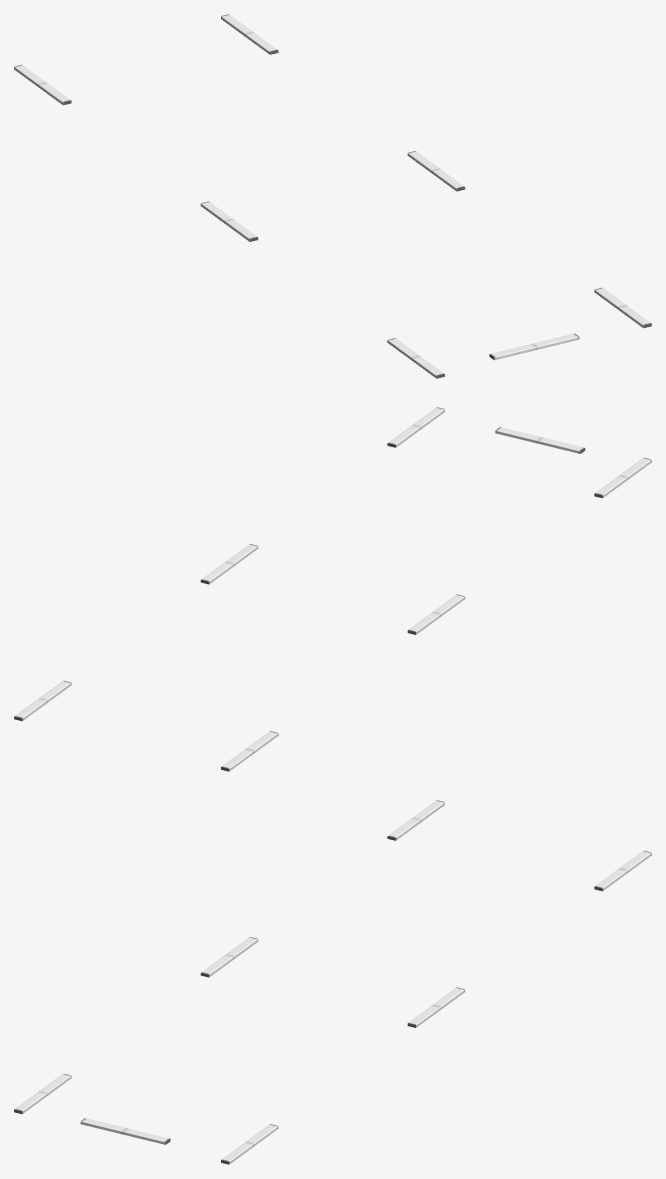
The model's file is inforaum.glb.
3 renders of one model, top to bottom at view 1: azimuth 30°, elevation 25°; view 2: azimuth 150°, elevation 25°; view 3: azimuth 330°, elevation 25°, orthographic.
Visible parts, largest first — view 1: neontubefl.001, neotubemr, neontubeml, neontubebl, neontubefr, neontubefl, neontubebr; view 2: neontubefl.001, neotubemr, neontubefl, neontubeml, neontubebr, neontubebl, neontubefr; view 3: neontubefl.001, neontubeml, neotubemr, neontubebr, neontubefr, neontubefl, neontubebl.
Boxes of the visible parts, bbox=[...] form: neontubefl.001: bbox=[489, 333, 579, 360]; neotubemr: bbox=[407, 151, 465, 191]; neontubeml: bbox=[200, 201, 258, 241]; neontubebl: bbox=[14, 64, 71, 105]; neontubefr: bbox=[594, 287, 651, 328]; neontubefl: bbox=[387, 338, 444, 378]; neontubebr: bbox=[221, 14, 278, 54]; neontubefl.001: bbox=[495, 427, 585, 453]; neotubemr: bbox=[200, 544, 258, 584]; neontubefl: bbox=[594, 457, 651, 498]; neontubeml: bbox=[407, 594, 465, 634]; neontubebr: bbox=[14, 680, 71, 721]; neontubebl: bbox=[221, 731, 278, 771]; neontubefr: bbox=[387, 407, 444, 447]; neontubefl.001: bbox=[80, 1118, 170, 1144]; neontubeml: bbox=[200, 937, 258, 977]; neotubemr: bbox=[407, 987, 465, 1027]; neontubebr: bbox=[594, 850, 651, 891]; neontubefr: bbox=[221, 1124, 278, 1164]; neontubefl: bbox=[14, 1073, 71, 1114]; neontubebl: bbox=[387, 800, 444, 840].
Size of what is drawn, in the model's own units: 5.06 by 0.0649 by 17.2.
Materials: 1 (1 with a texture image).
